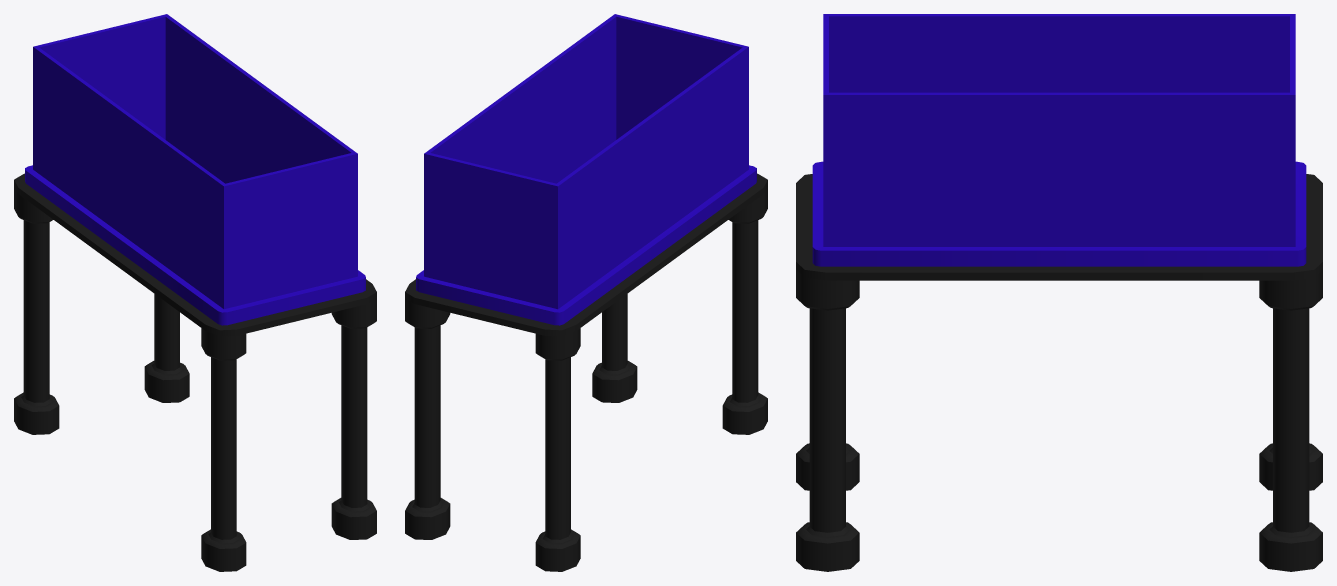
Rendered from Hea_Player_Room_Aquarium.fbx.
3 views of the same model, side by side, from view 1: azimuth 30°, elevation 25°; view 2: azimuth 150°, elevation 25°; view 3: azimuth 270°, elevation 25° (orthographic). The views are drawn at different scales.
Parts seen in each view (by area): view 1: Aquarium.001, Table.001; view 2: Aquarium.001, Table.001; view 3: Aquarium.001, Table.001.
Part boxes in pixels (x1=…): Aquarium.001: x1=25, y1=14, x2=365, y2=325; Table.001: x1=14, y1=173, x2=376, y2=571; Aquarium.001: x1=416, y1=14, x2=756, y2=325; Table.001: x1=405, y1=173, x2=767, y2=571; Aquarium.001: x1=812, y1=14, x2=1306, y2=266; Table.001: x1=796, y1=174, x2=1322, y2=571.
Size of the model in its own units: 43.83 by 94.6 by 96.72.
